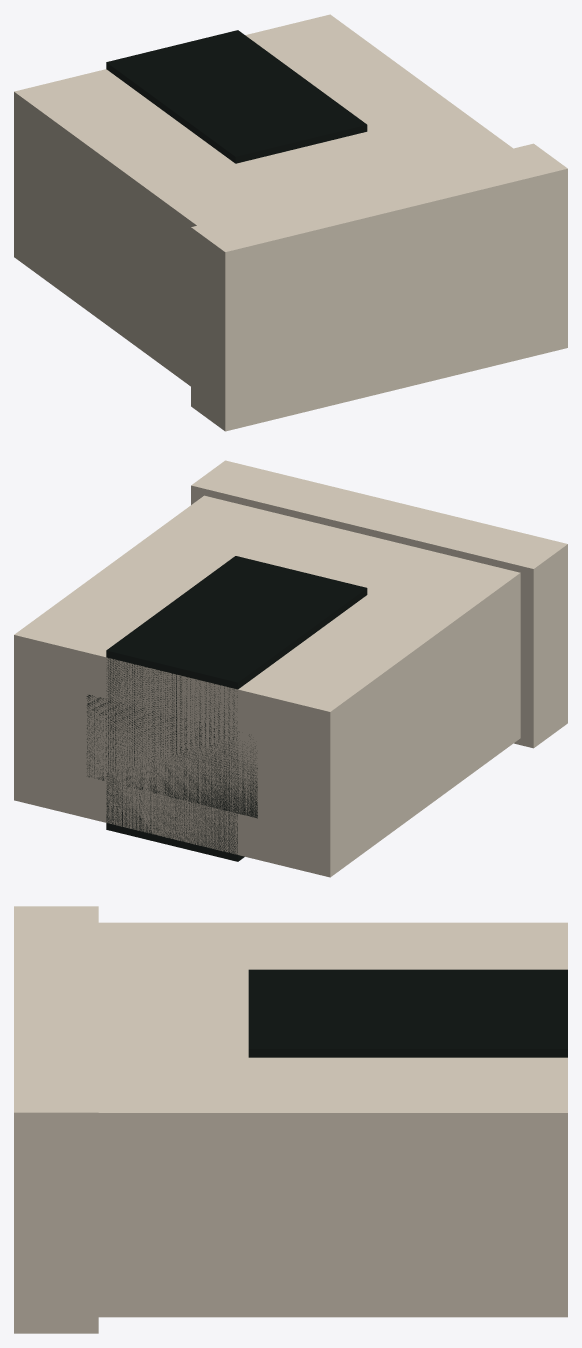
File: arc_de_triomphe.glb
3 renders of one model, top to bottom at view 1: azimuth 30°, elevation 25°; view 2: azimuth 150°, elevation 25°; view 3: azimuth 270°, elevation 25°, orthographic. The views are drawn at different scales.
Visible parts, largest first — view 1: Arc de Triomphe; view 2: Arc de Triomphe; view 3: Arc de Triomphe.
Boxes of the visible parts, box(x1,y1,x2,y2) form: Arc de Triomphe: box(14, 14, 567, 431); Arc de Triomphe: box(14, 460, 567, 877); Arc de Triomphe: box(14, 906, 567, 1333).
Size of the model in its own units: 52 by 26 by 59.
